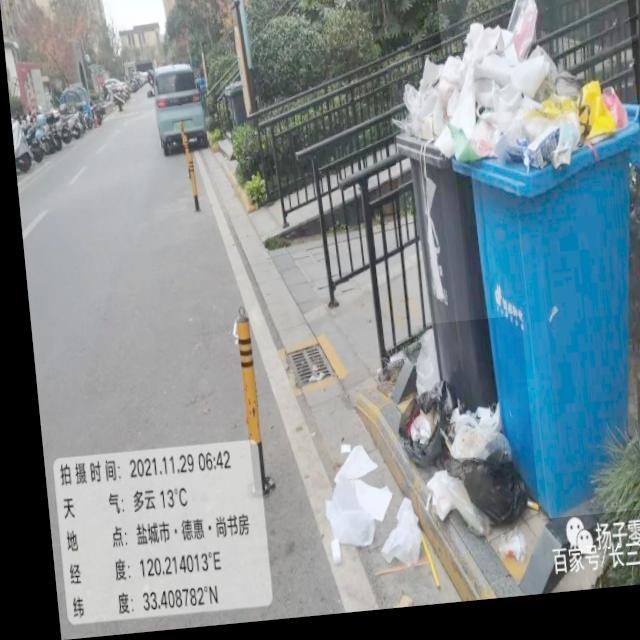garbage: (302, 325, 534, 618)
overflow: (435, 0, 640, 533), (384, 61, 485, 423)
